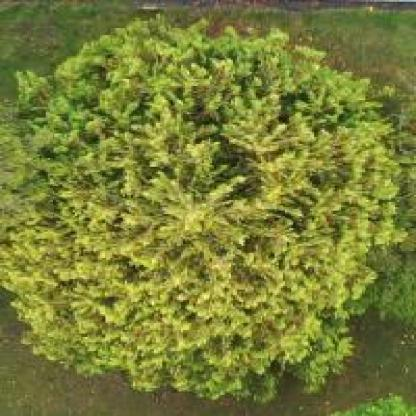Coniferous Tree: (0, 9, 410, 404)
